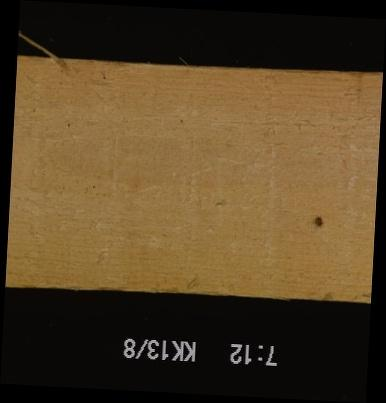small_knot: (313, 213, 325, 230)
